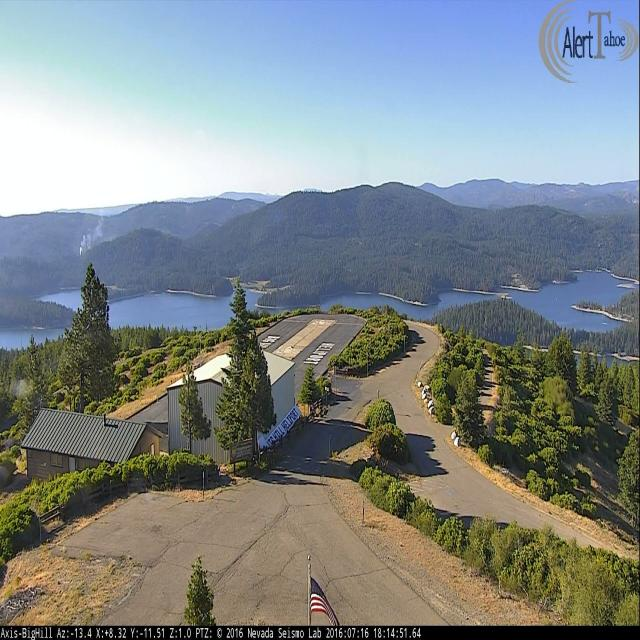smoke: (78, 214, 104, 255)
